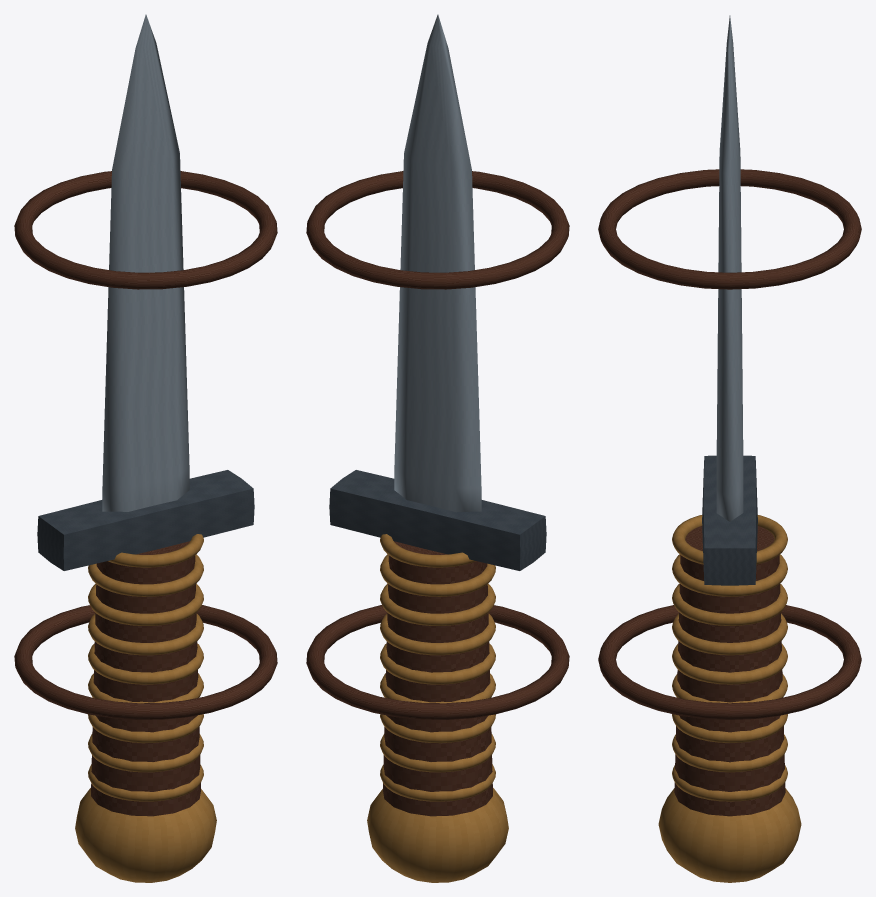
3 views of the same model, side by side, from view 1: azimuth 30°, elevation 25°; view 2: azimuth 150°, elevation 25°; view 3: azimuth 270°, elevation 25° (orthographic).
Visible parts, largest first — view 1: blade, leather.0, iron.11, leather.13, brass.10, leather.12, brass.7, brass.8, brass.6, brass.5, brass.2, brass.3 (+3 smaller); view 2: blade, leather.0, iron.11, leather.13, brass.10, leather.12, brass.7, brass.8, brass.6, brass.5, brass.2, brass.3 (+3 smaller); view 3: leather.0, blade, leather.13, brass.10, leather.12, iron.11, brass.7, brass.9, brass.6, brass.8, brass.5, brass.3 (+3 smaller).
Part boxes in pixels (x1,y1,x2,y2): blade: (102,14,189,511); leather.0: (91,541,200,816); iron.11: (37,470,254,570); leather.13: (14,171,277,289); brass.10: (75,788,216,882); leather.12: (14,605,277,719); brass.7: (88,583,203,625); brass.8: (88,554,203,596); brass.6: (88,613,203,655); brass.5: (88,643,203,684); brass.2: (88,734,203,772); brass.3: (88,714,203,743); blade: (394,14,481,512); leather.0: (383,541,492,816); iron.11: (329,470,546,570); leather.13: (306,171,569,289); brass.10: (367,788,508,882); leather.12: (306,605,569,719); brass.7: (380,583,495,625); brass.8: (380,554,495,596); brass.6: (380,613,495,655); brass.5: (380,643,495,684); brass.2: (380,734,495,772); brass.3: (380,714,495,743); leather.0: (674,526,785,816); blade: (716,15,743,521); leather.13: (598,169,861,289); brass.10: (658,788,801,882); leather.12: (598,605,861,719); iron.11: (702,455,757,585); brass.7: (672,584,787,625); brass.9: (672,515,787,564); brass.6: (672,613,787,655); brass.8: (672,554,787,596); brass.5: (672,643,787,684); brass.3: (672,714,787,742).
Size of the model in its own units: 0.118 by 0.425 by 0.118.
Materials: 4 (4 with a texture image).
